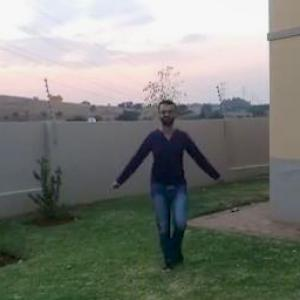land: (120, 109, 218, 248)
